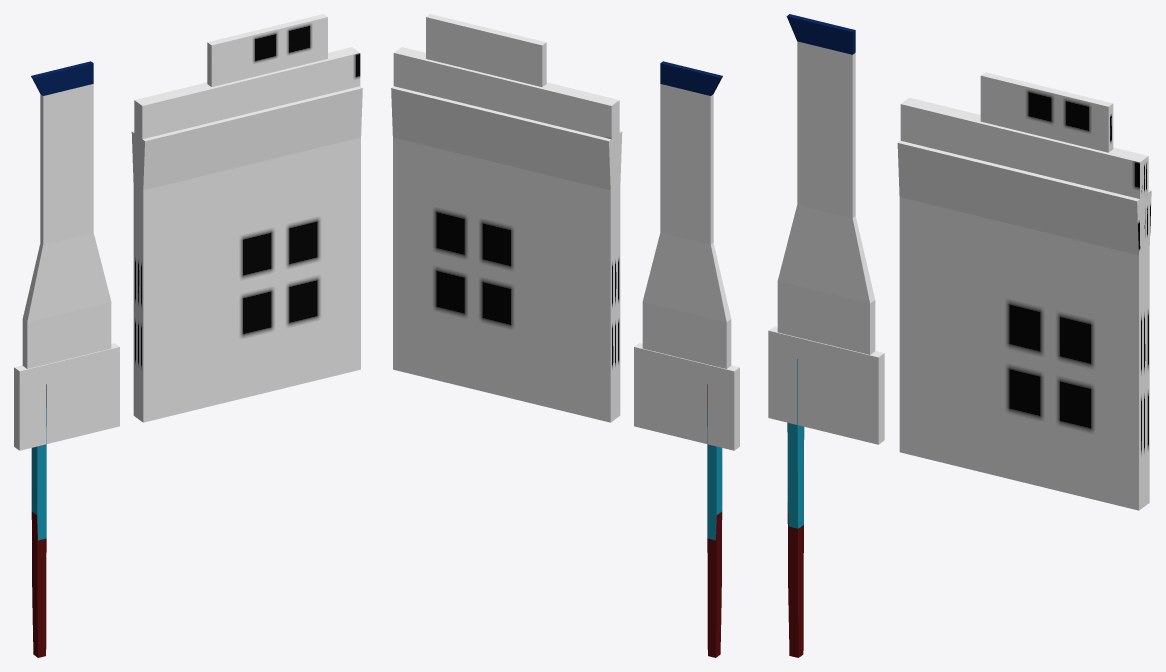
Rendered from CargoNormXY_BridgeNormY.glb.
3 views of the same model, side by side, from view 1: azimuth 30°, elevation 25°; view 2: azimuth 150°, elevation 25°; view 3: azimuth 330°, elevation 25° (orthographic). The views are drawn at different scales.
Visible parts, largest first — view 1: Bridge, Cargo; view 2: Bridge, Cargo; view 3: Bridge, Cargo.
Part boxes in pixels (x1,y1,x2,y2): Bridge: [14, 14, 362, 450]; Cargo: [31, 384, 46, 657]; Bridge: [391, 14, 739, 450]; Cargo: [707, 384, 722, 657]; Bridge: [768, 14, 1151, 510]; Cargo: [787, 359, 804, 657].
Size of the model in its own units: 34.1 by 55.71 by 2.32.
Materials: 1 (1 with a texture image).
